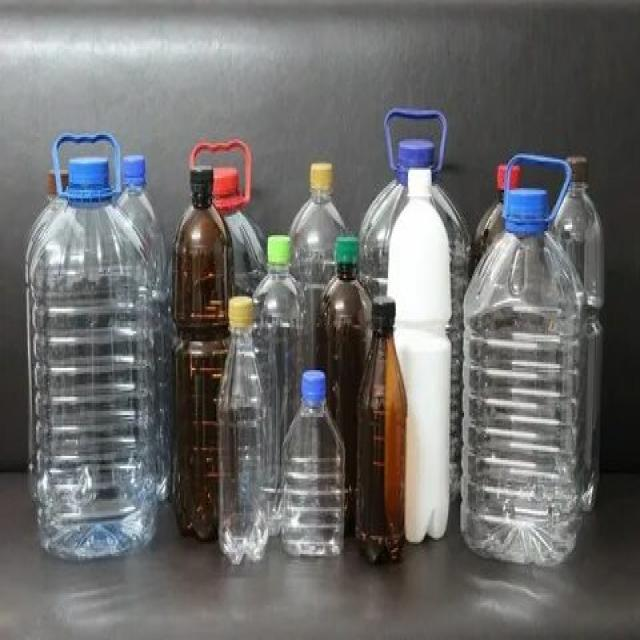brown: (174, 192, 220, 544), (355, 326, 406, 563), (317, 266, 371, 366)
